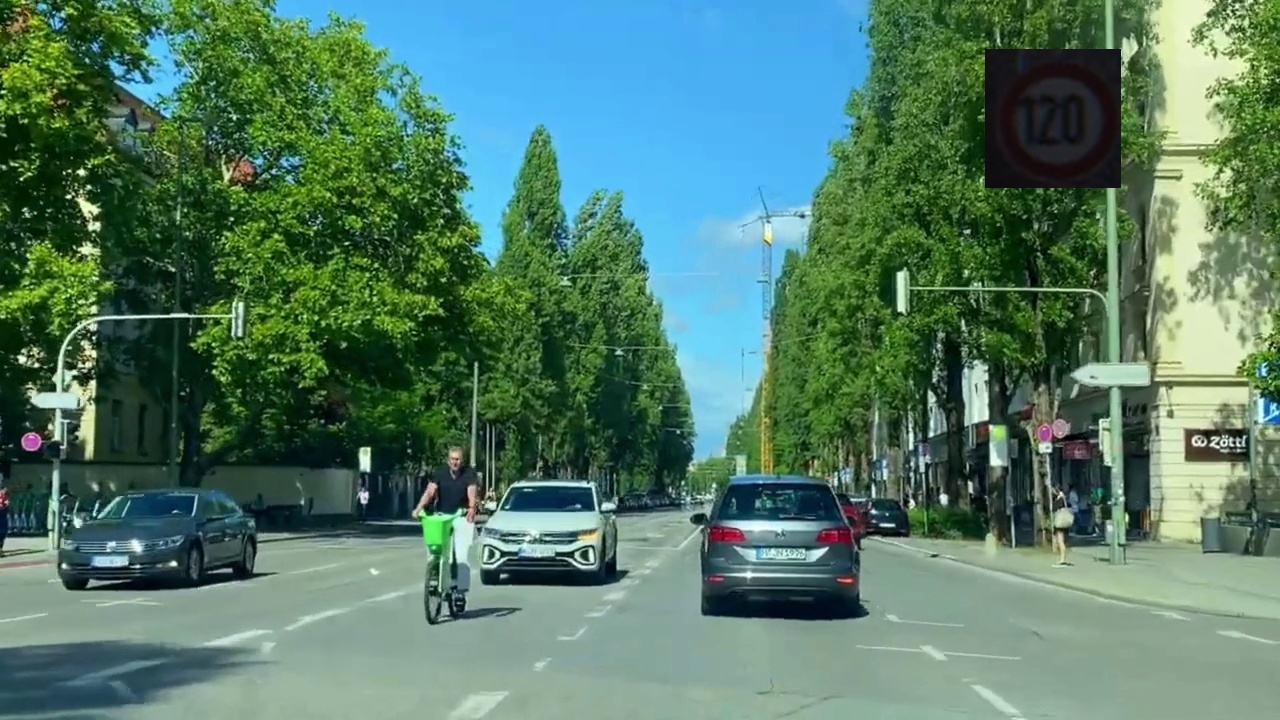Speed 120: (985, 49, 1121, 188)
